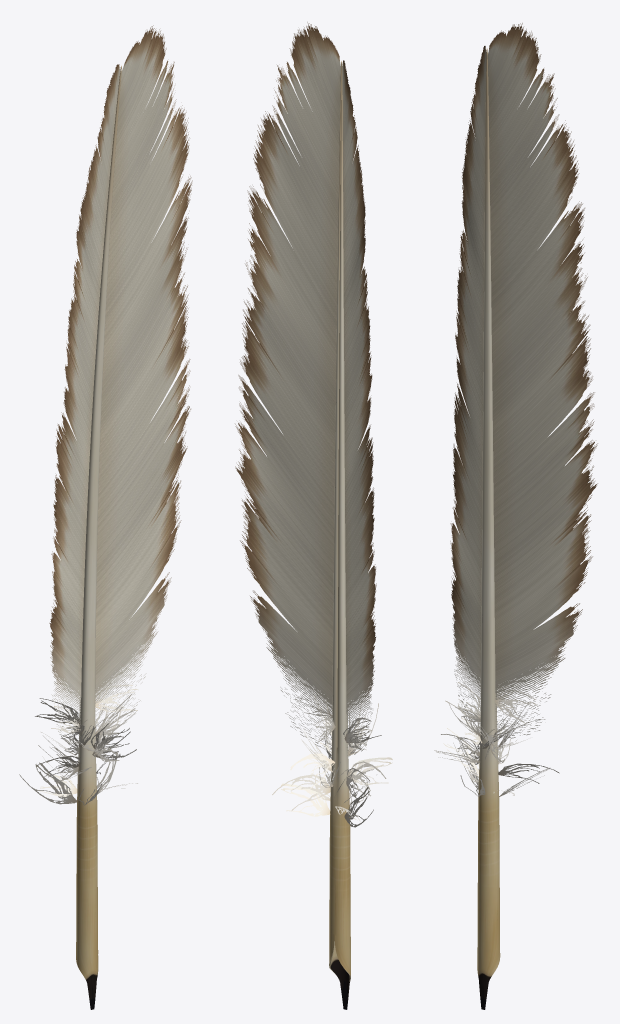
Rendered from pluma.glb.
3 renders of one model, left to right at view 1: azimuth 30°, elevation 25°; view 2: azimuth 150°, elevation 25°; view 3: azimuth 330°, elevation 25°, orthographic. The views are drawn at different scales.
Parts seen in each view (by area): view 1: pluma_barbas, pluma_canon; view 2: pluma_barbas, pluma_canon; view 3: pluma_barbas, pluma_canon.
Boxes of the visible parts, x1,y1,x2,y2 form: pluma_barbas: [19, 25, 192, 805]; pluma_canon: [76, 65, 121, 1009]; pluma_barbas: [235, 22, 392, 827]; pluma_canon: [329, 61, 350, 1009]; pluma_barbas: [434, 23, 597, 796]; pluma_canon: [477, 48, 500, 1009].
Bounding box in the file's own units: 0.057 × 0.3177 × 0.0348.
Materials: 3 (2 with a texture image).
